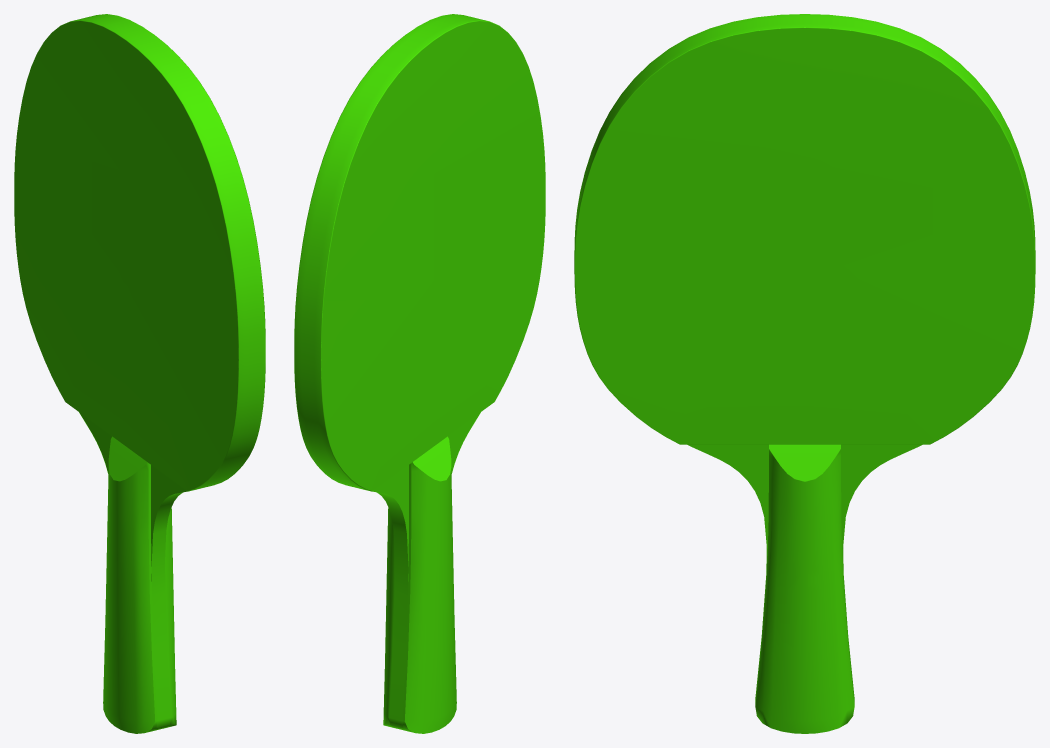
File: pong2.glb
The picture shows the model from 3 angles, left to right: view 1: azimuth 30°, elevation 25°; view 2: azimuth 150°, elevation 25°; view 3: azimuth 270°, elevation 25°; orthographic projection. The views are drawn at different scales.
Visible parts, largest first — view 1: SM_PingPongPaddle; view 2: SM_PingPongPaddle; view 3: SM_PingPongPaddle.
Part boxes in pixels (x1,y1,x2,y2): SM_PingPongPaddle: (14, 14, 265, 733); SM_PingPongPaddle: (294, 14, 545, 733); SM_PingPongPaddle: (574, 14, 1035, 733).
Size of the model in its own units: 0.3046 by 3.75 by 2.24.
